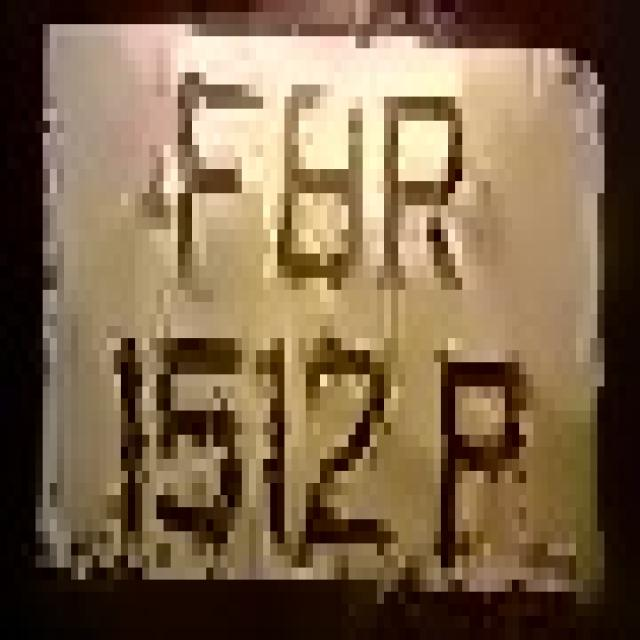1: (100, 290, 164, 567), (256, 314, 306, 568)
2: (299, 302, 398, 604)
5: (142, 302, 249, 567)
B: (270, 49, 377, 362)
F: (156, 48, 256, 350)
P: (427, 314, 526, 580)
R: (363, 60, 469, 326)
